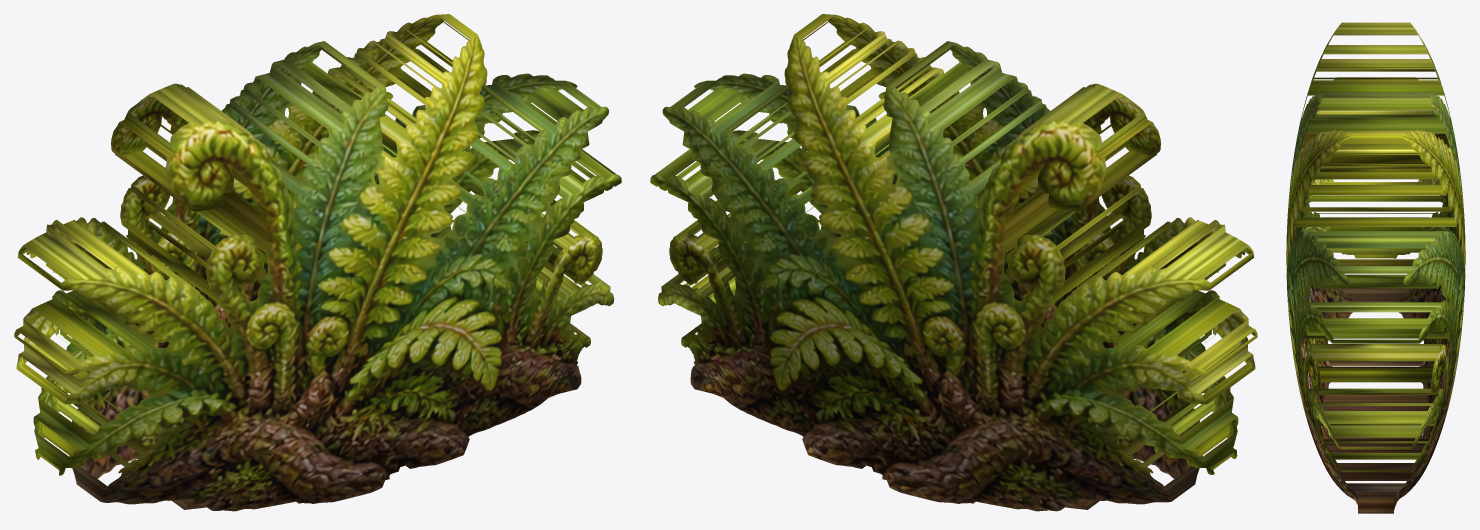
3 renders of one model, left to right at view 1: azimuth 30°, elevation 25°; view 2: azimuth 150°, elevation 25°; view 3: azimuth 270°, elevation 25°, orthographic. The views are drawn at different scales.
Parts seen in each view (by area): view 1: organisms:4; view 2: organisms:4; view 3: organisms:4.
Boxes of the visible parts, box(x1,y1,x2,y2) form: organisms:4: box(14, 14, 621, 511); organisms:4: box(650, 14, 1257, 511); organisms:4: box(1286, 22, 1465, 513).
Bounding box in the file's own units: 1.31 × 0.9444 × 0.42.
1 material, 1 textured.
